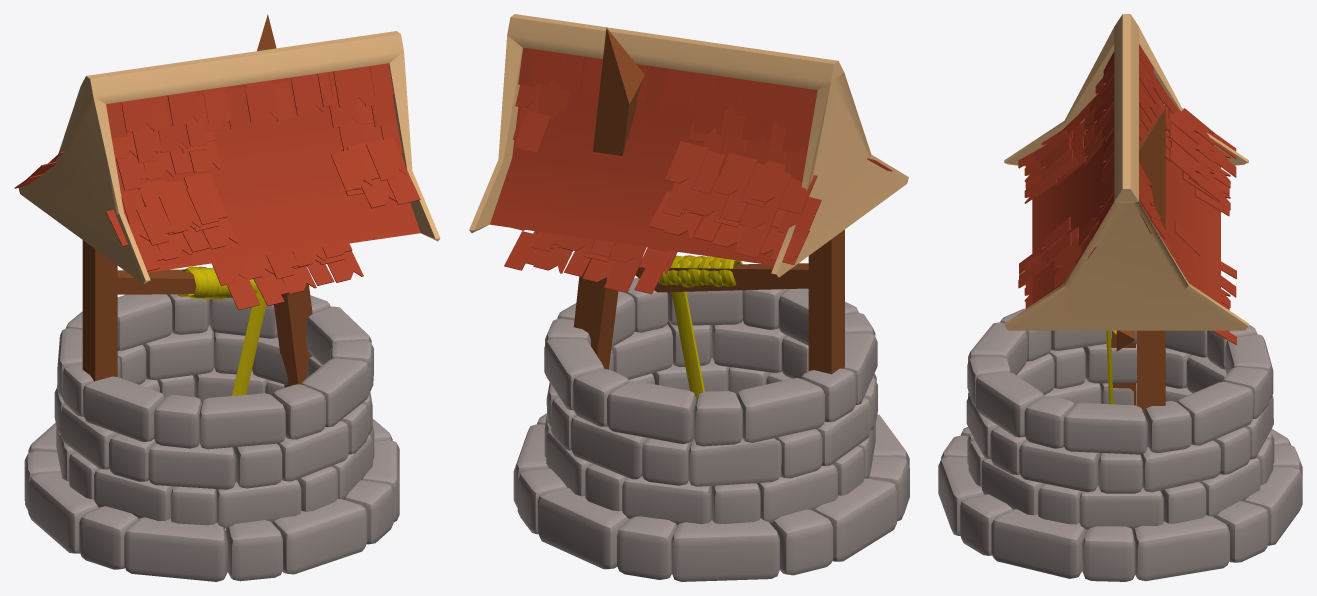
Rendered from broken wall.fbx.
3 renders of one model, left to right at view 1: azimuth 30°, elevation 25°; view 2: azimuth 150°, elevation 25°; view 3: azimuth 270°, elevation 25°, orthographic. The views are drawn at different scales.
Visible parts, largest first — view 1: polySurface1635, polySurface1242, polySurface1241, polySurface1247, polySurface1213, polySurface1214, polySurface1228, polySurface1233, polySurface1199, polySurface1240, polySurface1248, polySurface1221 (+64 smaller); view 2: polySurface1635, polySurface1248, polySurface1237, polySurface1235, polySurface1247, polySurface1209, polySurface1205, polySurface1233, polySurface1223, polySurface1250, polySurface1195, polySurface1243 (+63 smaller); view 3: polySurface1635, polySurface1246, polySurface1239, polySurface1248, polySurface1218, polySurface1207, polySurface1225, polySurface1204, polySurface1232, polySurface1211, polySurface1245, polySurface1235 (+32 smaller).
Boxes of the visible parts, x1,y1,x2,y2 form: polySurface1635: [18, 31, 440, 284]; polySurface1242: [124, 517, 227, 581]; polySurface1241: [272, 498, 367, 574]; polySurface1247: [82, 240, 117, 381]; polySurface1213: [199, 393, 285, 449]; polySurface1214: [83, 376, 164, 441]; polySurface1228: [148, 442, 236, 489]; polySurface1233: [28, 472, 98, 553]; polySurface1199: [216, 479, 301, 528]; polySurface1240: [225, 520, 282, 581]; polySurface1248: [257, 14, 312, 387]; polySurface1221: [143, 325, 213, 380]; polySurface1635: [469, 14, 908, 277]; polySurface1248: [573, 27, 644, 369]; polySurface1237: [671, 518, 779, 581]; polySurface1235: [537, 488, 630, 569]; polySurface1247: [808, 229, 844, 374]; polySurface1209: [607, 381, 696, 443]; polySurface1205: [737, 378, 824, 442]; polySurface1233: [813, 478, 896, 561]; polySurface1223: [688, 438, 781, 486]; polySurface1250: [658, 255, 742, 399]; polySurface1195: [622, 475, 711, 524]; polySurface1243: [617, 516, 678, 579]; polySurface1635: [1004, 14, 1248, 330]; polySurface1246: [1132, 515, 1229, 581]; polySurface1239: [991, 509, 1088, 578]; polySurface1248: [1137, 108, 1165, 492]; polySurface1218: [1063, 403, 1147, 454]; polySurface1207: [1177, 381, 1253, 445]; polySurface1225: [1019, 440, 1100, 492]; polySurface1204: [1079, 485, 1163, 529]; polySurface1232: [1140, 440, 1220, 492]; polySurface1211: [975, 371, 1044, 437]; polySurface1245: [1082, 526, 1135, 581]; polySurface1235: [1244, 467, 1302, 545].
Bounding box in the file's own units: 46.18 × 64.84 × 43.35.
